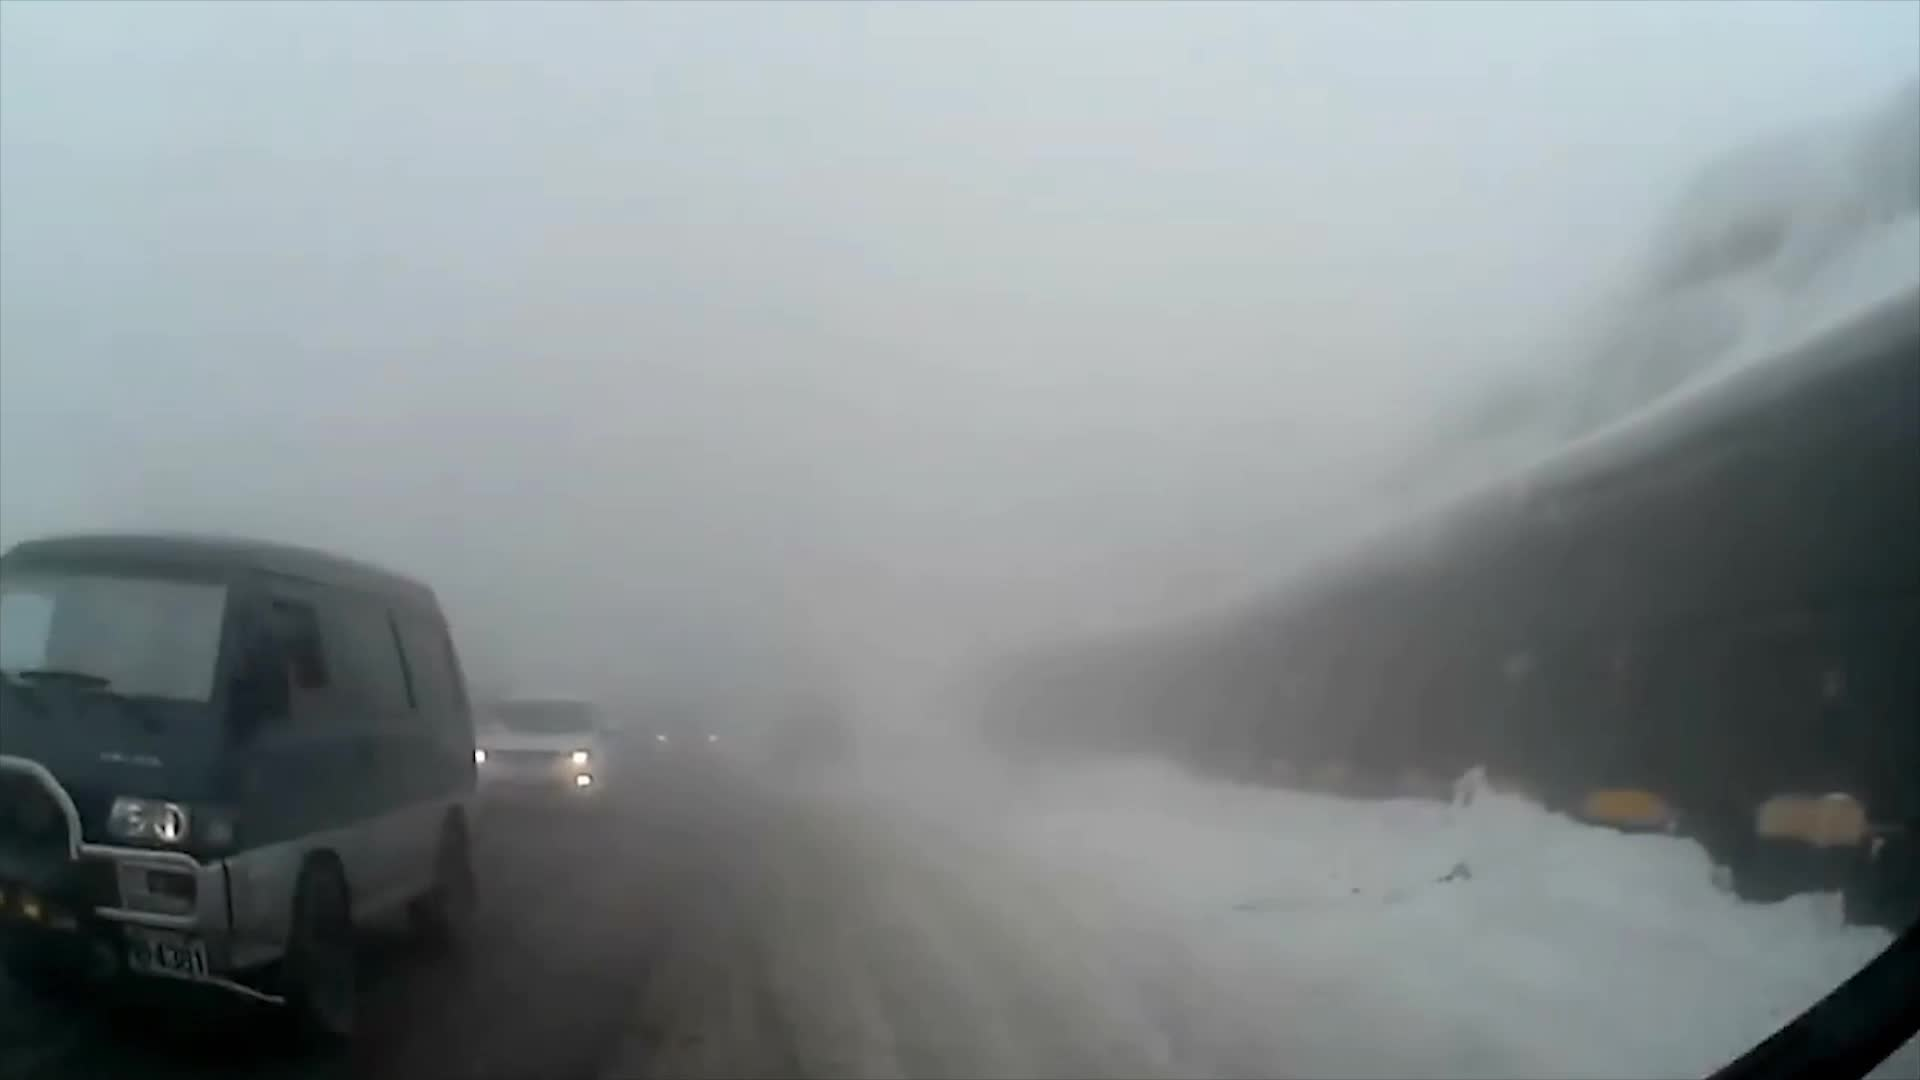vehicle: (0, 530, 487, 1055), (463, 698, 618, 823)
